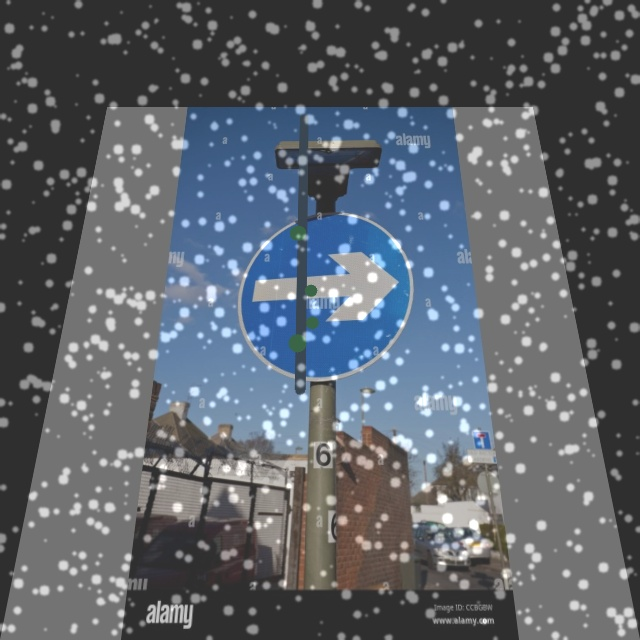Compulsory_Turn_Right: (229, 212, 419, 381)
